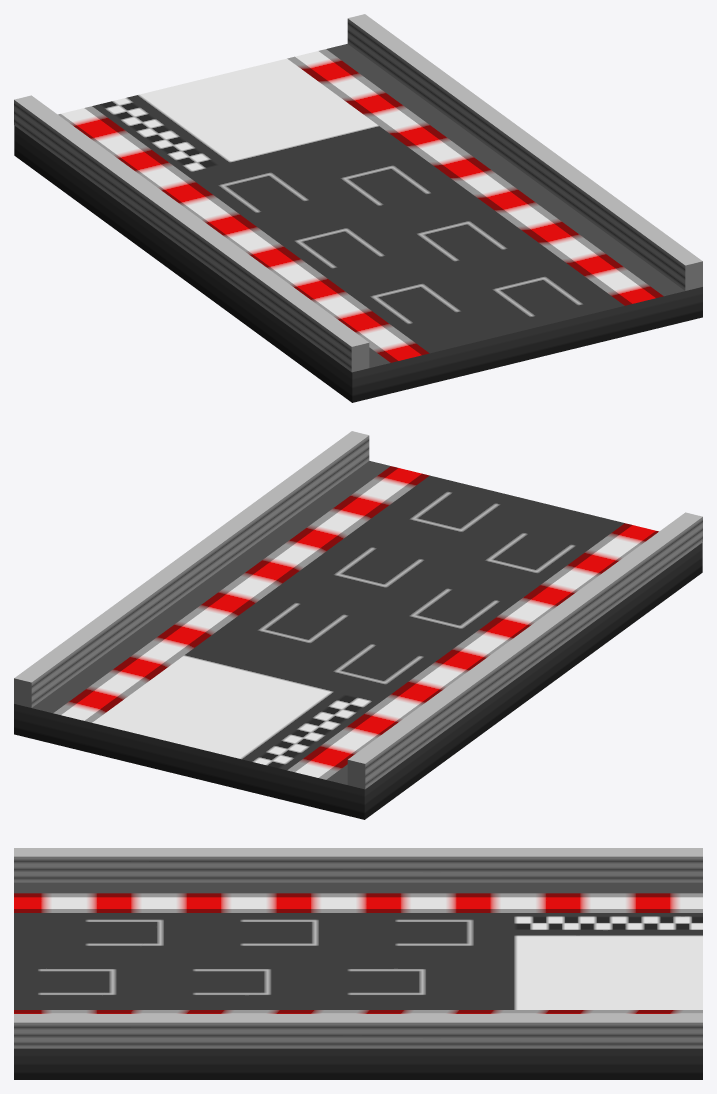
The model's file is Environment_Track (1).fbx.
3 views of the same model, one above another, from view 1: azimuth 30°, elevation 25°; view 2: azimuth 150°, elevation 25°; view 3: azimuth 270°, elevation 25° (orthographic).
Visible parts, largest first — view 1: polySurface5; view 2: polySurface5; view 3: polySurface5.
Boxes of the visible parts, bbox=[...] form: polySurface5: bbox=[14, 14, 702, 402]; polySurface5: bbox=[14, 431, 702, 819]; polySurface5: bbox=[14, 848, 702, 1079].
Size of the model in its own units: 1800 by 275 by 3000.
